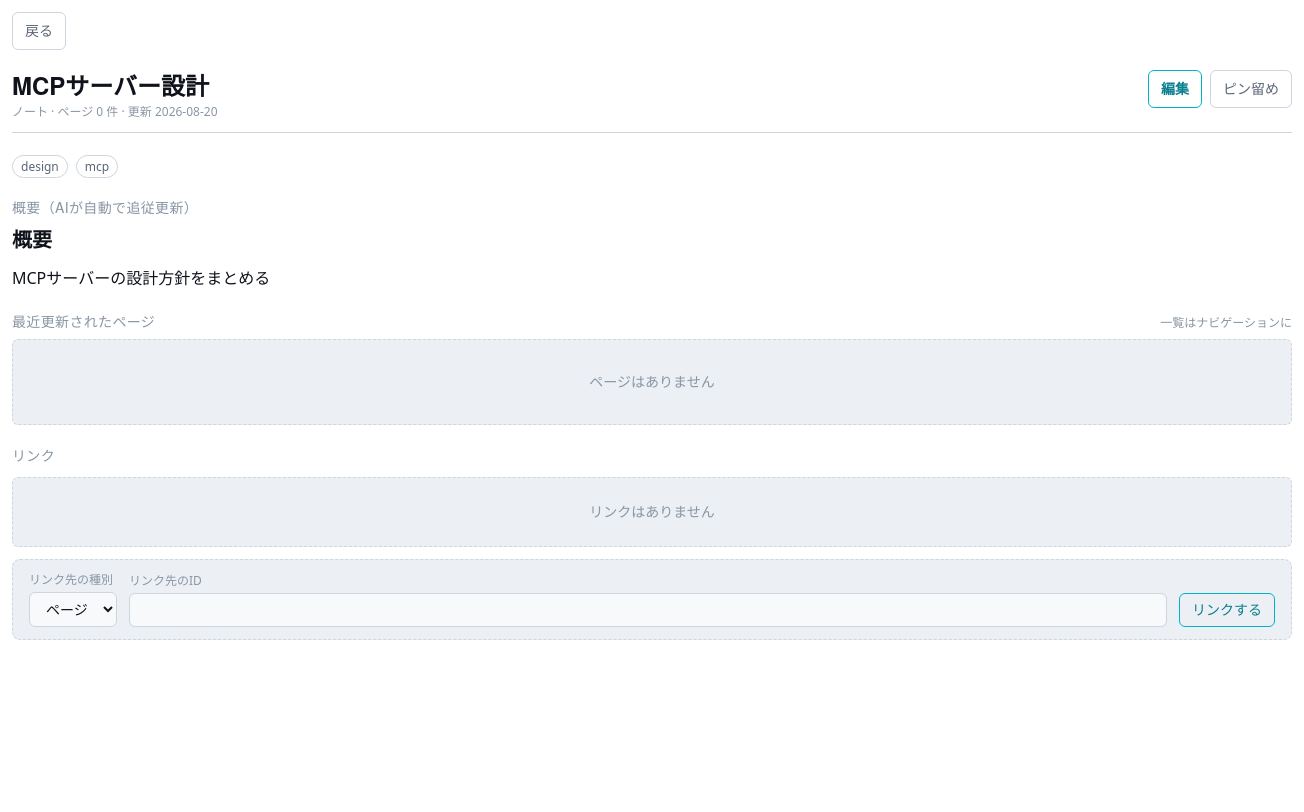
Test: NotebookDetail › 編集中に外部で更新されるとバナーを出し、破棄すると最新を読み込む
This screenshot has width=1304, height=812.
Click the button "編集" at [1175, 89], box left=1148, top=70, right=1202, bottom=108
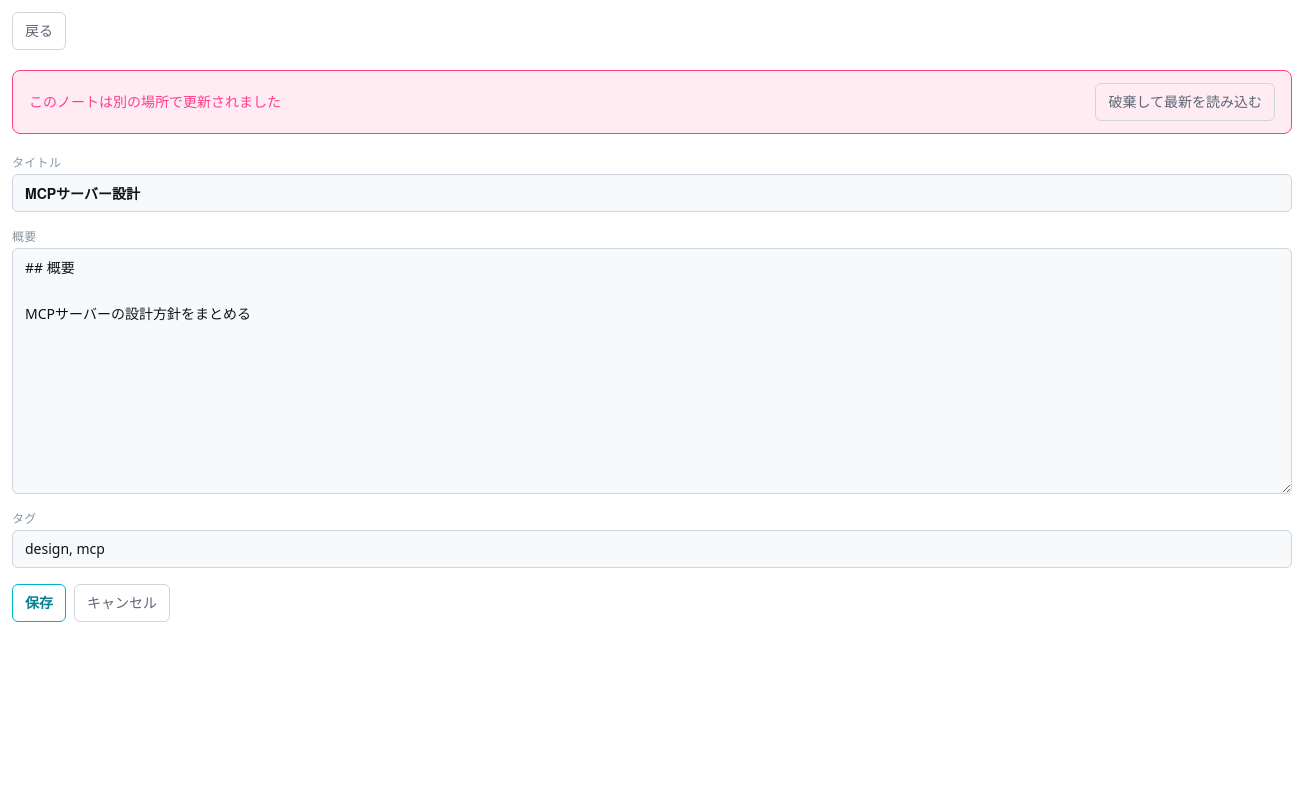
Expected: the text "このノートは別の場所で更新されました" is shown, left=29, top=92, right=281, bottom=111
Click the button "破棄して最新を読み込む" at [1185, 102], box left=1095, top=83, right=1275, bottom=121
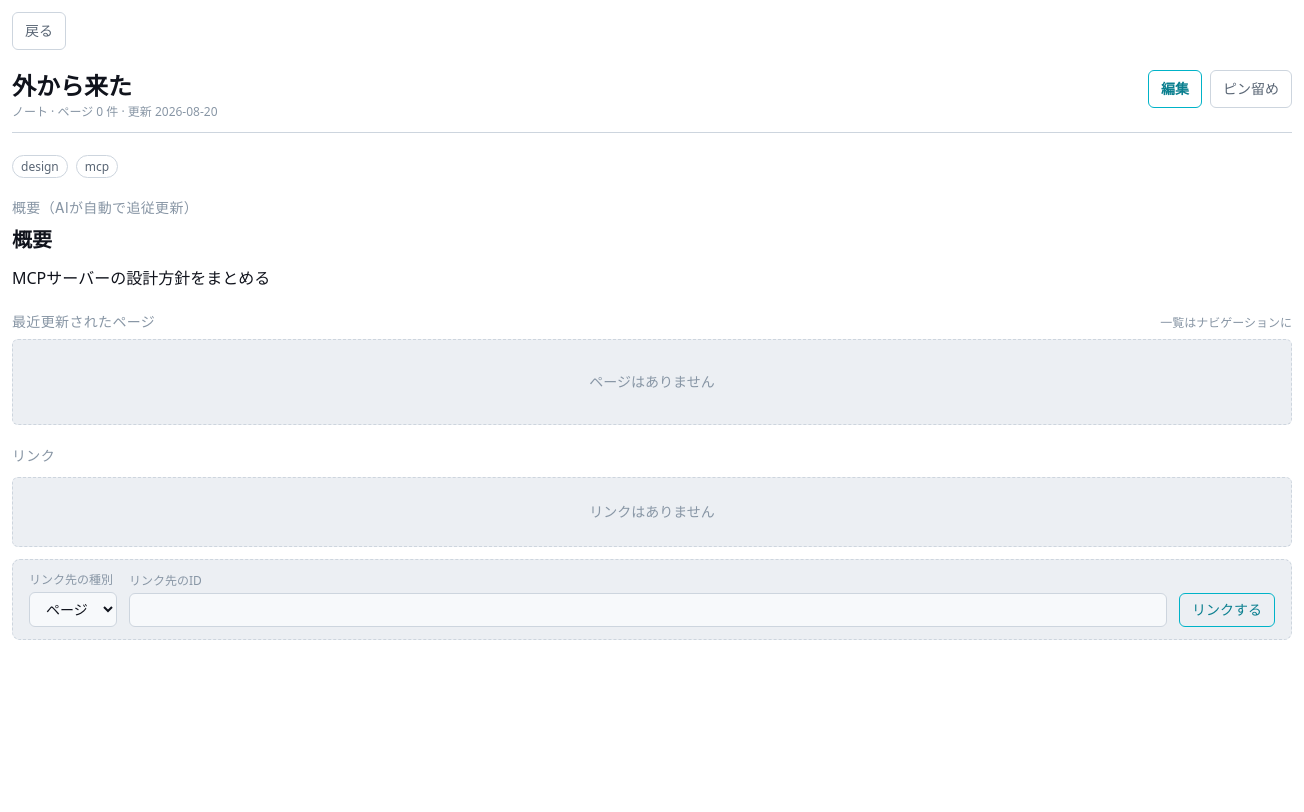
Expected: the heading "外から来た" is shown, left=12, top=68, right=132, bottom=102
